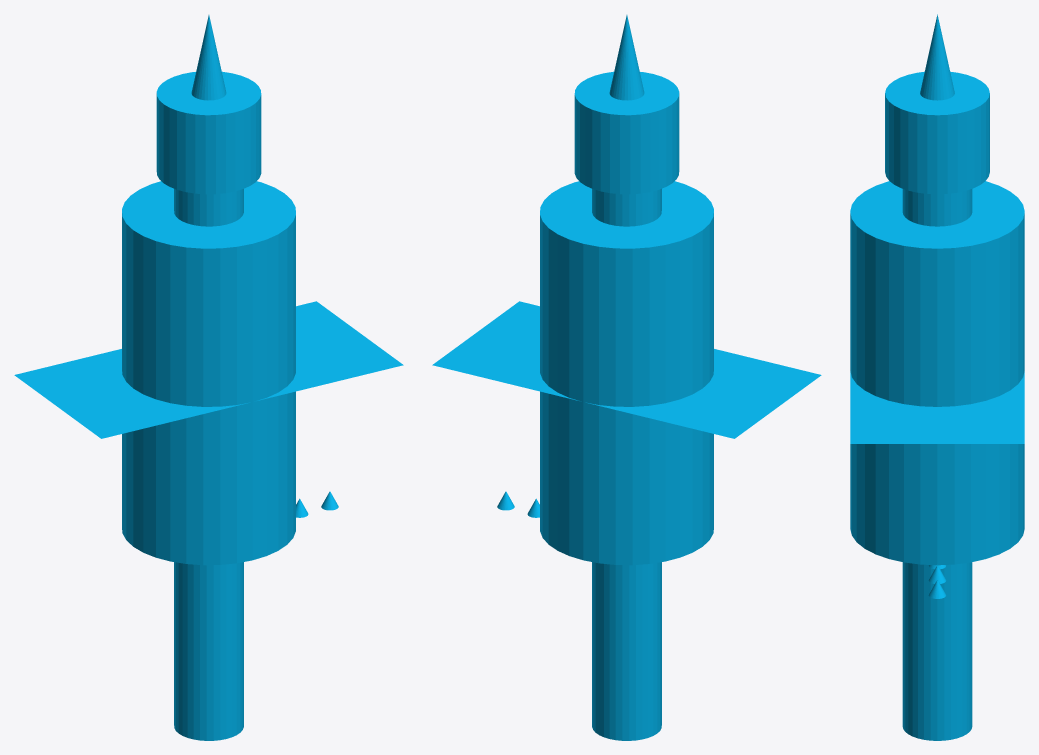
The model's file is quick_shape__capsule_1773388102.glb.
3 renders of one model, left to right at view 1: azimuth 30°, elevation 25°; view 2: azimuth 150°, elevation 25°; view 3: azimuth 270°, elevation 25°, orthographic.
Parts seen in each view (by area): view 1: Cylinder, Cylinder.003, Cylinder.001, Plane.001, Plane, Cylinder.002, Cone; view 2: Cylinder, Cylinder.003, Cylinder.001, Plane.001, Plane, Cylinder.002, Cone; view 3: Cylinder, Cylinder.003, Cylinder.001, Plane, Cylinder.002, Cone.
Part boxes in pixels (<box>): Cylinder: <box>122,181,295,565</box>; Cylinder.003: <box>174,562,243,740</box>; Cylinder.001: <box>156,71,261,194</box>; Plane.001: <box>14,349,249,438</box>; Plane: <box>257,301,403,400</box>; Cylinder.002: <box>174,188,243,226</box>; Cone: <box>191,15,226,100</box>; Cylinder: <box>540,181,713,565</box>; Cylinder.003: <box>592,562,661,740</box>; Cylinder.001: <box>574,71,679,194</box>; Plane.001: <box>586,349,821,438</box>; Plane: <box>432,301,578,400</box>; Cylinder.002: <box>592,188,661,226</box>; Cone: <box>609,15,644,100</box>; Cylinder: <box>850,181,1024,565</box>; Cylinder.003: <box>902,562,972,740</box>; Cylinder.001: <box>885,71,989,194</box>; Plane: <box>850,371,1024,443</box>; Cylinder.002: <box>902,189,972,226</box>; Cone: <box>920,14,954,100</box>.
Bounding box in the file's own units: 20 × 45 × 10.
